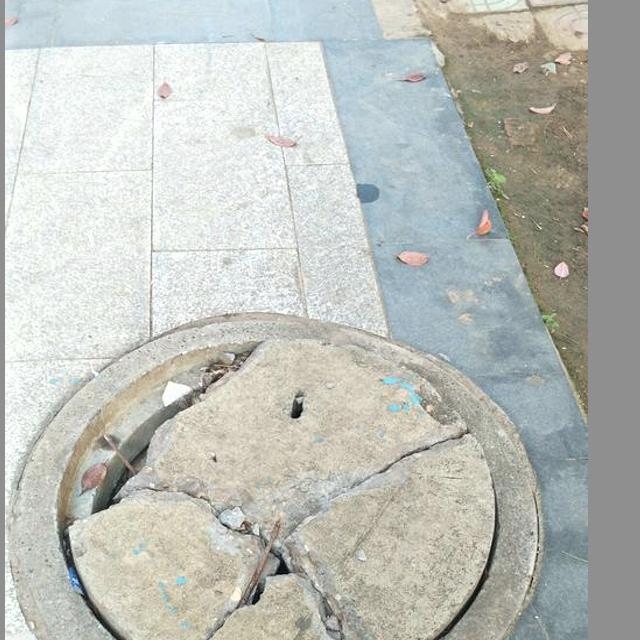broke: (9, 302, 550, 640)
